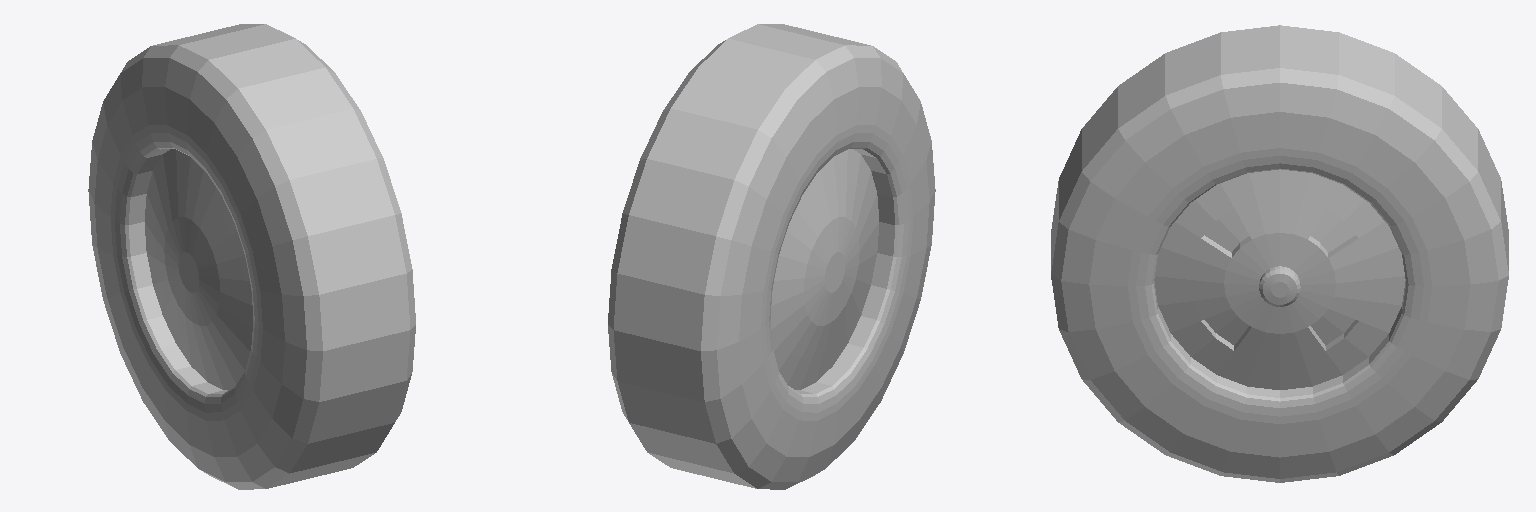
Rendered from llantaDelIzq.obj.
3 renders of one model, left to right at view 1: azimuth 30°, elevation 25°; view 2: azimuth 150°, elevation 25°; view 3: azimuth 270°, elevation 25°, orthographic.
Visible parts, largest first — view 1: truck_wheel.002; view 2: truck_wheel.002; view 3: truck_wheel.002.
Boxes of the visible parts, x1=… form: truck_wheel.002: x1=88, y1=24, x2=415, y2=489; truck_wheel.002: x1=608, y1=24, x2=935, y2=489; truck_wheel.002: x1=1051, y1=25, x2=1508, y2=482.
Size of the model in its own units: 1.62 by 4.64 by 4.64.